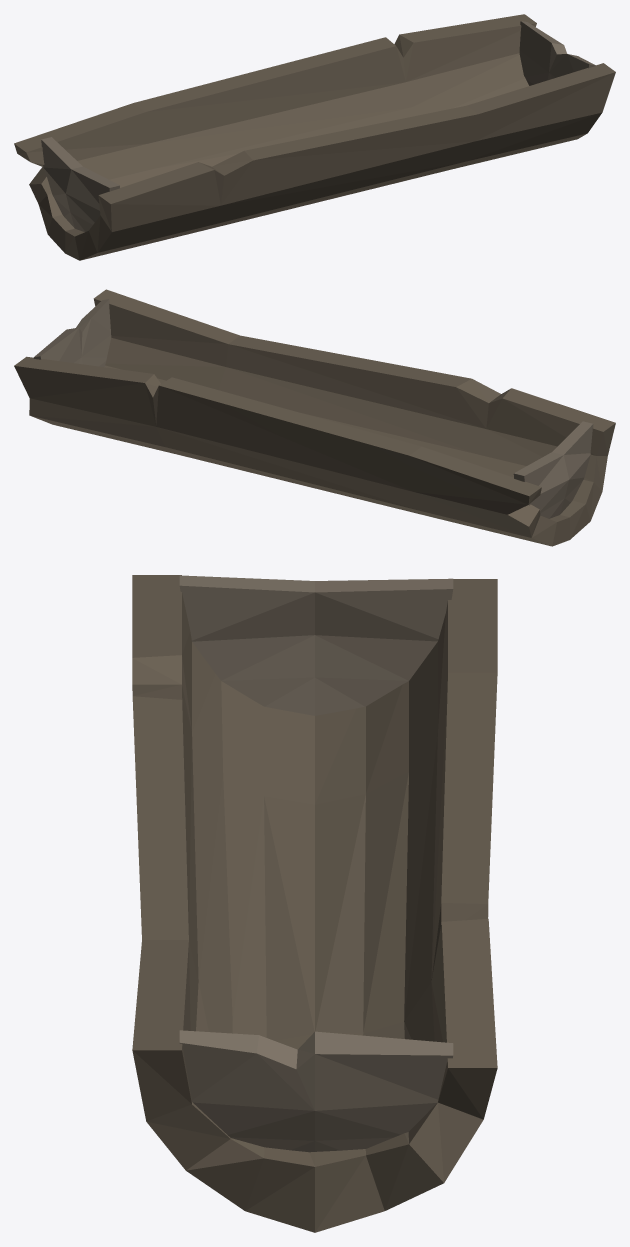
The model's file is trough.glb.
3 renders of one model, top to bottom at view 1: azimuth 30°, elevation 25°; view 2: azimuth 150°, elevation 25°; view 3: azimuth 270°, elevation 25°, orthographic. The views are drawn at different scales.
Visible parts, largest first — view 1: Trough; view 2: Trough; view 3: Trough.
Boxes of the visible parts, left/top/right/bottom form: Trough: left=14, top=14, right=615, bottom=260; Trough: left=14, top=289, right=615, bottom=546; Trough: left=132, top=575, right=497, bottom=1232.
Size of the model in its own units: 1.71 by 0.3089 by 0.5307.
1 material, 1 textured.
